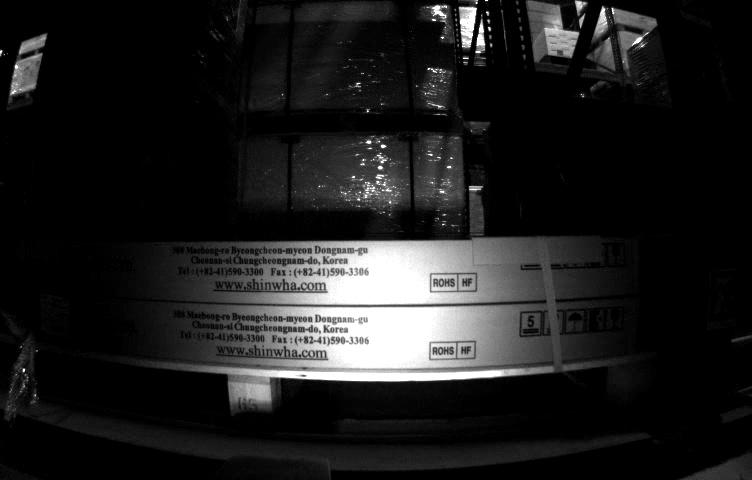True Barcode: (34, 292, 71, 342)
